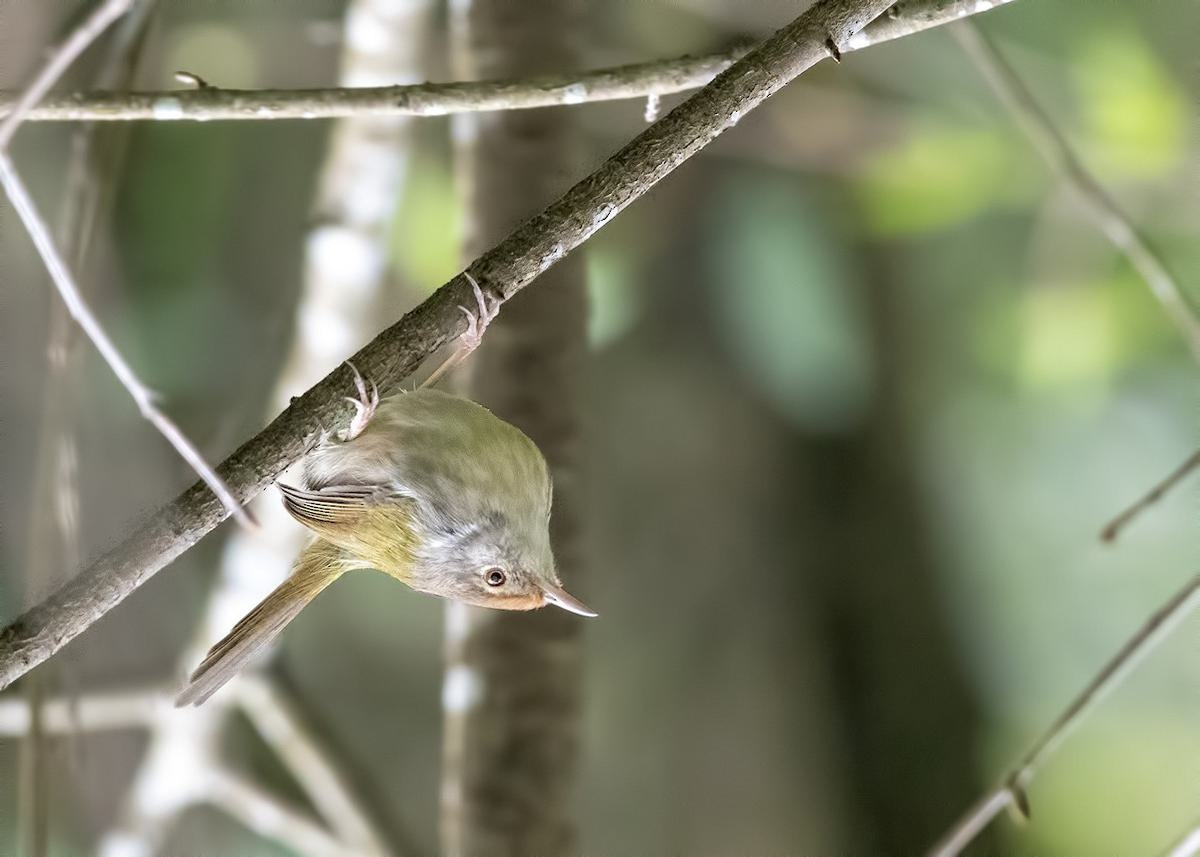tailorbird: (196, 303, 639, 718)
